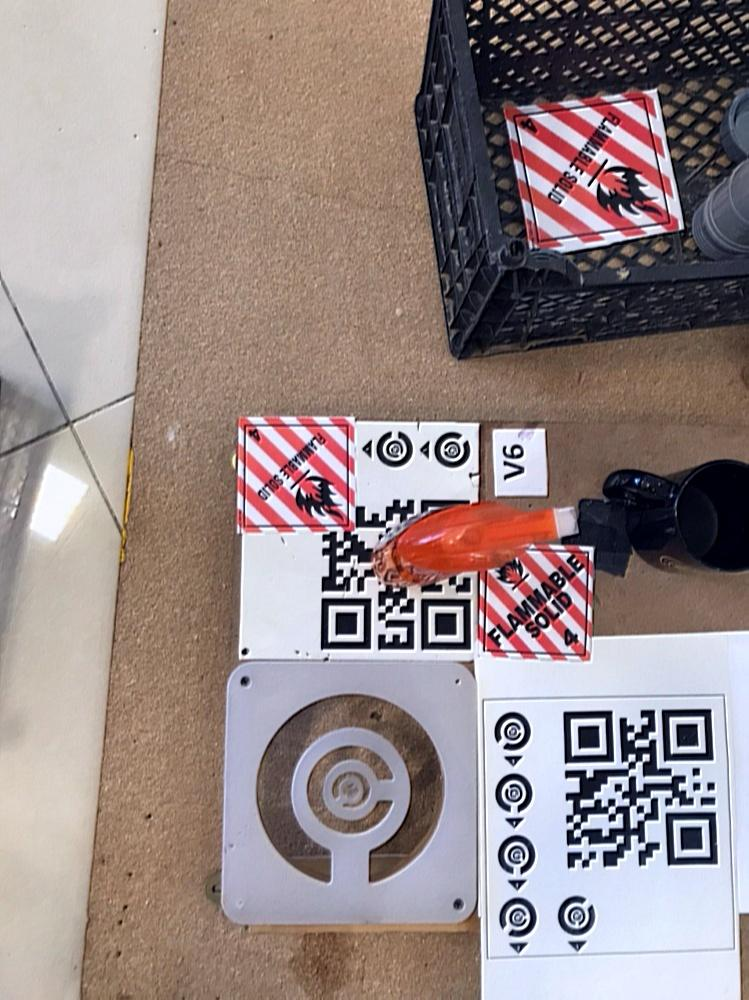flammable-solid: (504, 92, 687, 251), (235, 416, 358, 536), (478, 545, 596, 663)
